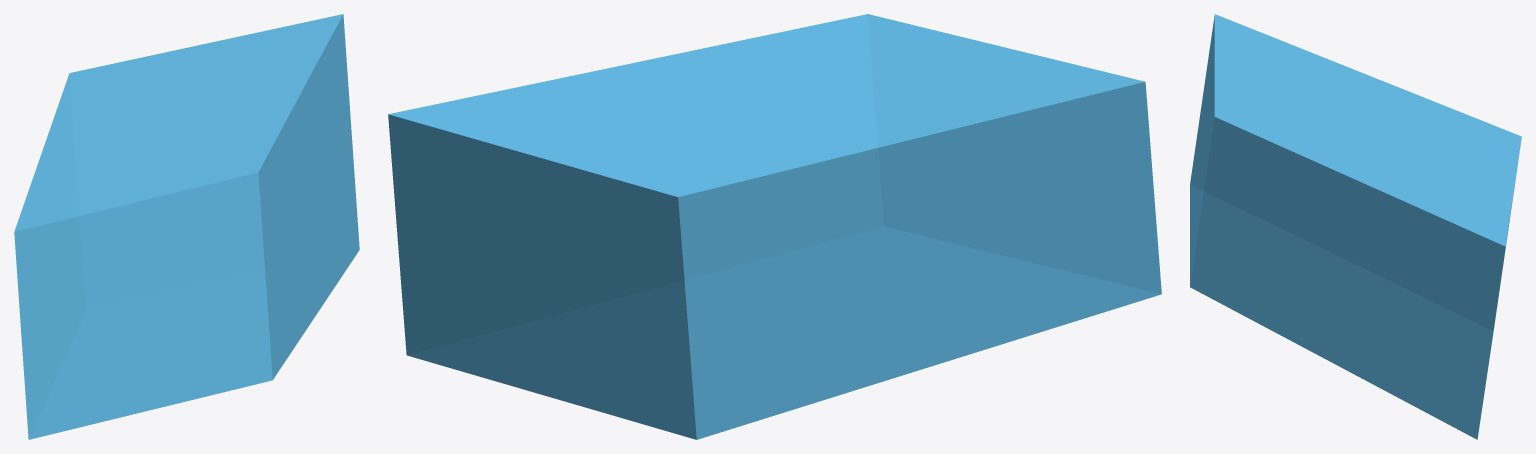
File: Event_421556567_HBrechit_22.fbx
3 views of the same model, side by side, from view 1: azimuth 30°, elevation 25°; view 2: azimuth 150°, elevation 25°; view 3: azimuth 270°, elevation 25° (orthographic). The views are drawn at different scales.
Visible parts, largest first — view 1: Model; view 2: Model; view 3: Model.
Boxes of the visible parts, x1,y1,x2,y2 form: Model: [14, 14, 359, 439]; Model: [388, 14, 1161, 439]; Model: [1190, 14, 1521, 439].
Size of the model in its own units: 1.05 by 0.5116 by 0.7029.
